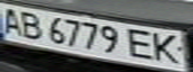6: (42, 15, 66, 45)
7: (78, 20, 103, 52), (60, 17, 81, 47)
9: (100, 22, 127, 55)
A: (0, 4, 27, 36)
B: (15, 9, 45, 40)
E: (124, 26, 160, 61)
K: (148, 30, 187, 66)
